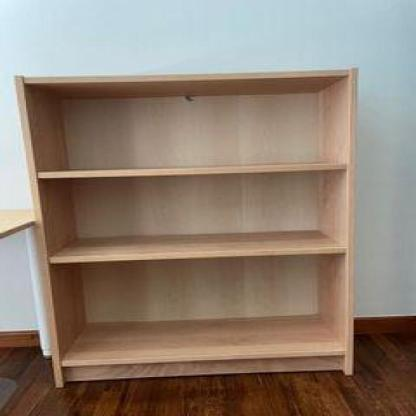Shelf: (9, 64, 373, 389)
